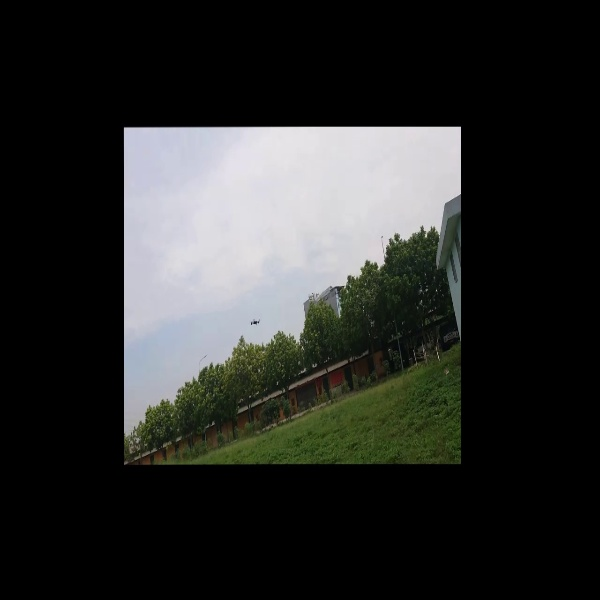drone: (246, 315, 263, 330)
